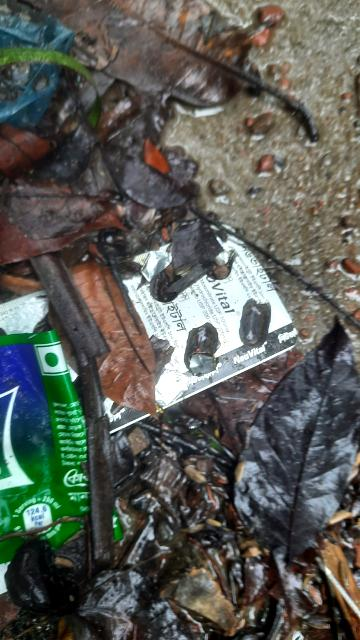medicine: (0, 196, 311, 461)
